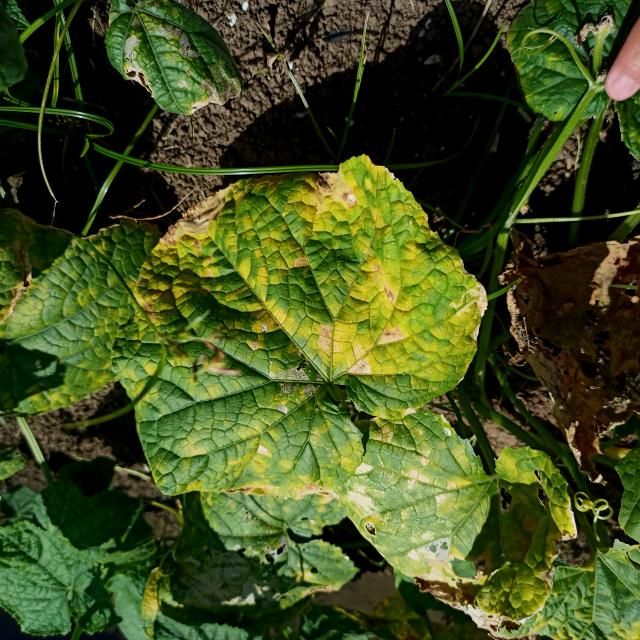disease_cucumber: (117, 158, 482, 500), (314, 407, 526, 591)
